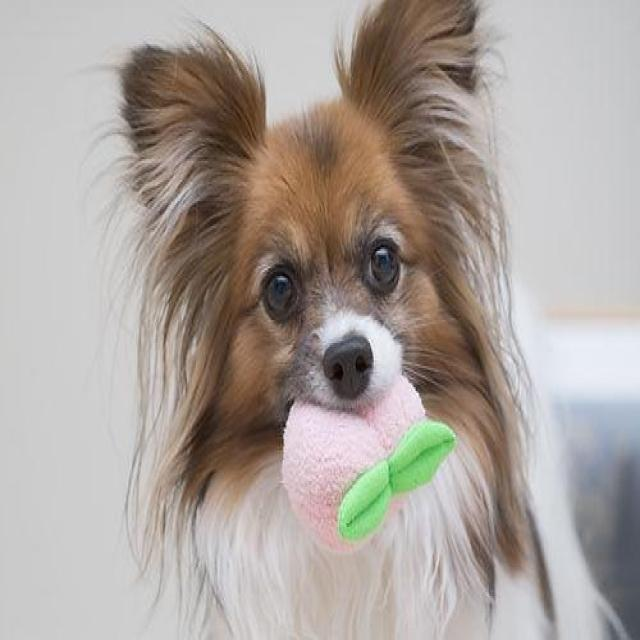papillon: (119, 0, 609, 638)
